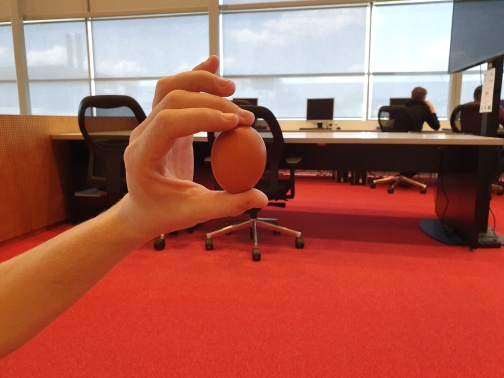egg: (209, 126, 267, 194)
